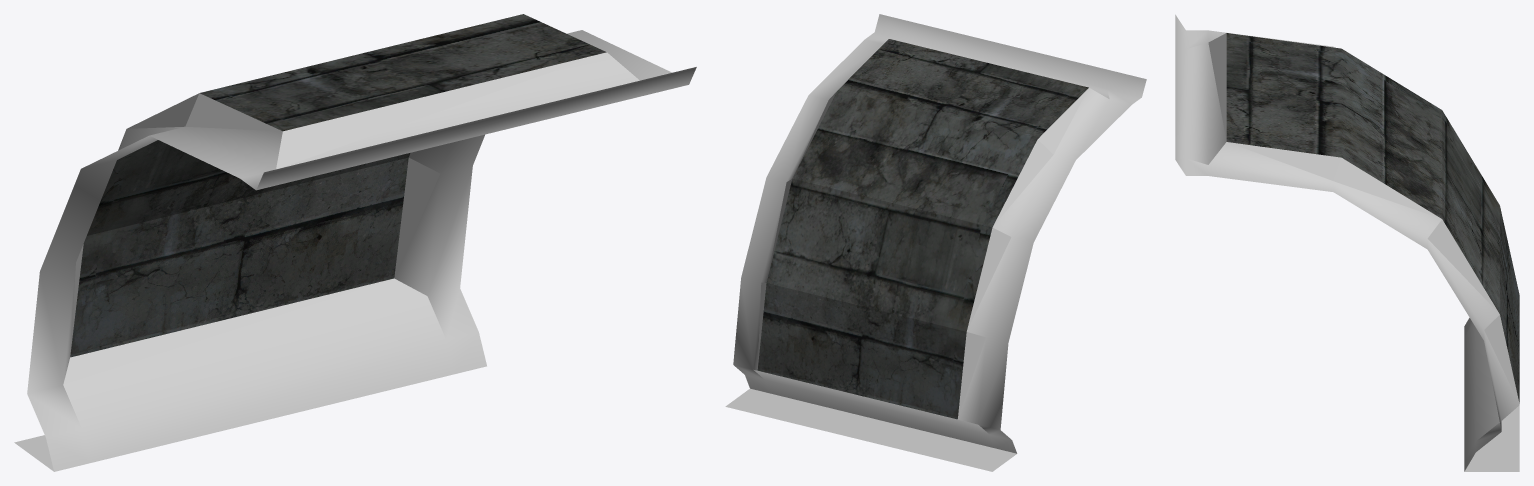
Rendered from concave_short_flat.dae.
3 renders of one model, left to right at view 1: azimuth 30°, elevation 25°; view 2: azimuth 150°, elevation 25°; view 3: azimuth 270°, elevation 25°, orthographic. The views are drawn at different scales.
Visible parts, largest first — view 1: polySurface1, polySurface10; view 2: polySurface10, polySurface1; view 3: polySurface10, polySurface1.
Part boxes in pixels (x1,y1,x2,y2): polySurface1: (14, 30, 696, 471); polySurface10: (70, 14, 606, 357); polySurface10: (757, 39, 1088, 419); polySurface1: (725, 14, 1146, 471); polySurface10: (1226, 33, 1519, 403); polySurface1: (1175, 14, 1519, 471).
Bounding box in the file's own units: 2 × 2 × 2.
